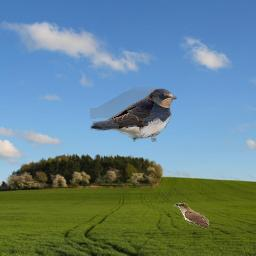Cuckoo: (173, 203, 209, 230)
Swallow: (90, 87, 177, 142)
